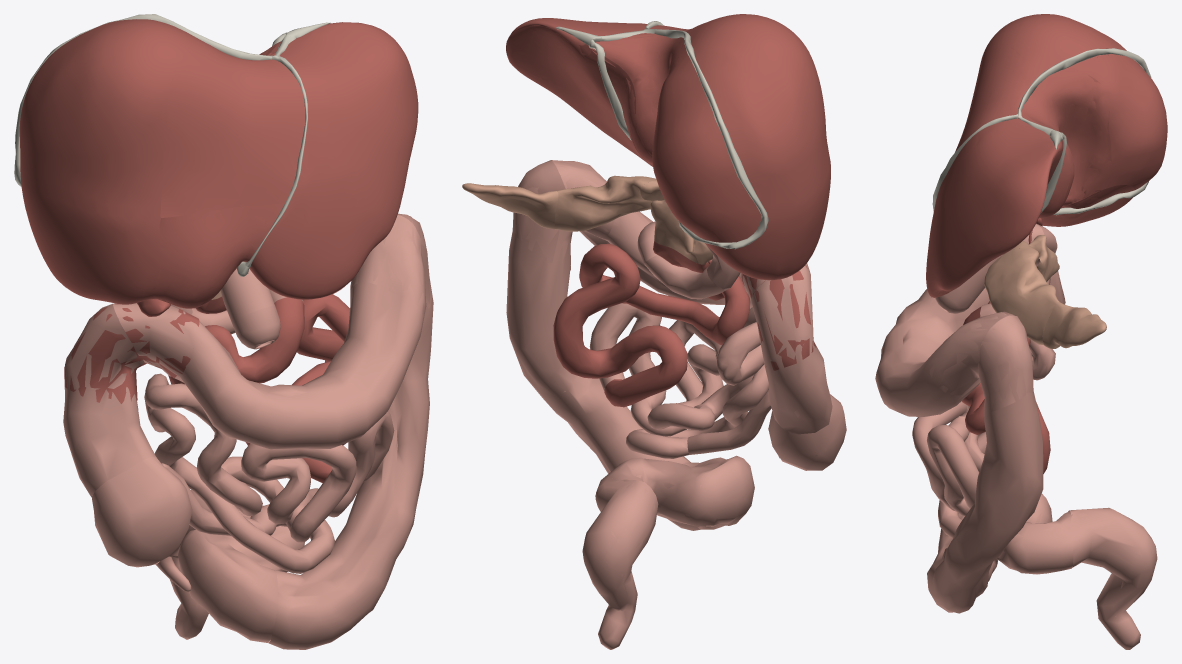
The model's file is adult_female.digestive.LOD1.glb.
3 views of the same model, side by side, from view 1: azimuth 30°, elevation 25°; view 2: azimuth 150°, elevation 25°; view 3: azimuth 270°, elevation 25° (orthographic). The views are drawn at different scales.
Parts seen in each view (by area): view 1: ADULT.FEMALE.DIGESTIVE.CAPSULE_OF_THE_LIVER, ADULT.FEMALE.DIGESTIVE.TRANSVERSE_COLON, ADULT.FEMALE.DIGESTIVE.ILEUM, ADULT.FEMALE.DIGESTIVE.DESCENDING_COLON, ADULT.FEMALE.DIGESTIVE.LEFT_SUPEROMEDIAL_SEGMENT1, ADULT.FEMALE.DIGESTIVE.ASCENDING_COLON, ADULT.FEMALE.DIGESTIVE.SIGMOID_COLON, ADULT.FEMALE.DIGESTIVE.CAECUM, ADULT.FEMALE.DIGESTIVE.JEJENUM, ADULT.FEMALE.DIGESTIVE.LEFT_INFEROMEDIAL_SEGMENT, ADULT.FEMALE.DIGESTIVE.HEPATIC_FLEXURE_OF_COLON, ADULT.FEMALE.DIGESTIVE.CORONARY_LIGAMENT_OF_LIVER (+6 smaller); view 2: ADULT.FEMALE.DIGESTIVE.CAPSULE_OF_THE_LIVER, ADULT.FEMALE.DIGESTIVE.BARE_AREA_OF_LIVER, ADULT.FEMALE.DIGESTIVE.DESCENDING_COLON, ADULT.FEMALE.DIGESTIVE.JEJENUM, ADULT.FEMALE.DIGESTIVE.ILEUM, ADULT.FEMALE.DIGESTIVE.ASCENDING_COLON, ADULT.FEMALE.DIGESTIVE.RECTUM, ADULT.FEMALE.DIGESTIVE.SIGMOID_COLON, ADULT.FEMALE.DIGESTIVE.DIAPHRAGMATIC_SURFACE_OF_LIVER, ADULT.FEMALE.DIGESTIVE.BODY_OF_PANCREAS, ADULT.FEMALE.DIGESTIVE.TRANSVERSE_COLON, ADULT.FEMALE.DIGESTIVE.CAECUM (+13 smaller); view 3: ADULT.FEMALE.DIGESTIVE.CAPSULE_OF_THE_LIVER, ADULT.FEMALE.DIGESTIVE.DESCENDING_COLON, ADULT.FEMALE.DIGESTIVE.BARE_AREA_OF_LIVER, ADULT.FEMALE.DIGESTIVE.TRANSVERSE_COLON, ADULT.FEMALE.DIGESTIVE.RECTUM, ADULT.FEMALE.DIGESTIVE.ILEUM, ADULT.FEMALE.DIGESTIVE.BODY_OF_PANCREAS, ADULT.FEMALE.DIGESTIVE.SIGMOID_COLON, ADULT.FEMALE.DIGESTIVE.CAUDATE_LOBE, ADULT.FEMALE.DIGESTIVE.SPLENIC_FLEXURE_OF_COLON, ADULT.FEMALE.DIGESTIVE.TAIL_OF_PANCREAS, ADULT.FEMALE.DIGESTIVE.CORONARY_LIGAMENT_OF_LIVER (+8 smaller).
Boxes of the visible parts, x1,y1,x2,y2 form: ADULT.FEMALE.DIGESTIVE.CAPSULE_OF_THE_LIVER: (19, 19, 418, 308); ADULT.FEMALE.DIGESTIVE.TRANSVERSE_COLON: (113, 215, 426, 449); ADULT.FEMALE.DIGESTIVE.ILEUM: (144, 373, 394, 573); ADULT.FEMALE.DIGESTIVE.DESCENDING_COLON: (268, 213, 433, 649); ADULT.FEMALE.DIGESTIVE.LEFT_SUPEROMEDIAL_SEGMENT1: (160, 43, 308, 217); ADULT.FEMALE.DIGESTIVE.ASCENDING_COLON: (63, 303, 155, 496); ADULT.FEMALE.DIGESTIVE.SIGMOID_COLON: (178, 505, 304, 642); ADULT.FEMALE.DIGESTIVE.CAECUM: (91, 456, 192, 567); ADULT.FEMALE.DIGESTIVE.JEJENUM: (168, 294, 349, 483); ADULT.FEMALE.DIGESTIVE.LEFT_INFEROMEDIAL_SEGMENT: (152, 203, 283, 307); ADULT.FEMALE.DIGESTIVE.HEPATIC_FLEXURE_OF_COLON: (64, 303, 199, 403); ADULT.FEMALE.DIGESTIVE.CORONARY_LIGAMENT_OF_LIVER: (14, 14, 294, 186); ADULT.FEMALE.DIGESTIVE.CAPSULE_OF_THE_LIVER: (506, 14, 830, 280); ADULT.FEMALE.DIGESTIVE.BARE_AREA_OF_LIVER: (588, 35, 761, 242); ADULT.FEMALE.DIGESTIVE.DESCENDING_COLON: (506, 160, 701, 530); ADULT.FEMALE.DIGESTIVE.JEJENUM: (553, 243, 749, 407); ADULT.FEMALE.DIGESTIVE.ILEUM: (589, 303, 768, 458); ADULT.FEMALE.DIGESTIVE.ASCENDING_COLON: (751, 263, 832, 434); ADULT.FEMALE.DIGESTIVE.RECTUM: (582, 479, 658, 649); ADULT.FEMALE.DIGESTIVE.SIGMOID_COLON: (595, 455, 754, 529); ADULT.FEMALE.DIGESTIVE.DIAPHRAGMATIC_SURFACE_OF_LIVER: (506, 24, 779, 280); ADULT.FEMALE.DIGESTIVE.BODY_OF_PANCREAS: (554, 175, 656, 231); ADULT.FEMALE.DIGESTIVE.TRANSVERSE_COLON: (550, 160, 765, 308); ADULT.FEMALE.DIGESTIVE.CAECUM: (768, 394, 846, 470); ADULT.FEMALE.DIGESTIVE.CAPSULE_OF_THE_LIVER: (926, 14, 1134, 297); ADULT.FEMALE.DIGESTIVE.DESCENDING_COLON: (927, 315, 1043, 613); ADULT.FEMALE.DIGESTIVE.BARE_AREA_OF_LIVER: (1023, 55, 1167, 204); ADULT.FEMALE.DIGESTIVE.TRANSVERSE_COLON: (875, 288, 1014, 416); ADULT.FEMALE.DIGESTIVE.RECTUM: (1068, 507, 1157, 649); ADULT.FEMALE.DIGESTIVE.ILEUM: (912, 340, 1055, 538); ADULT.FEMALE.DIGESTIVE.BODY_OF_PANCREAS: (984, 248, 1059, 344); ADULT.FEMALE.DIGESTIVE.SIGMOID_COLON: (938, 493, 1073, 574); ADULT.FEMALE.DIGESTIVE.CAUDATE_LOBE: (1022, 71, 1112, 217); ADULT.FEMALE.DIGESTIVE.SPLENIC_FLEXURE_OF_COLON: (929, 312, 1033, 412); ADULT.FEMALE.DIGESTIVE.TAIL_OF_PANCREAS: (1042, 302, 1106, 348); ADULT.FEMALE.DIGESTIVE.CORONARY_LIGAMENT_OF_LIVER: (1018, 48, 1151, 215).
Size of the model in its own units: 0.253 by 0.4459 by 0.2012.
